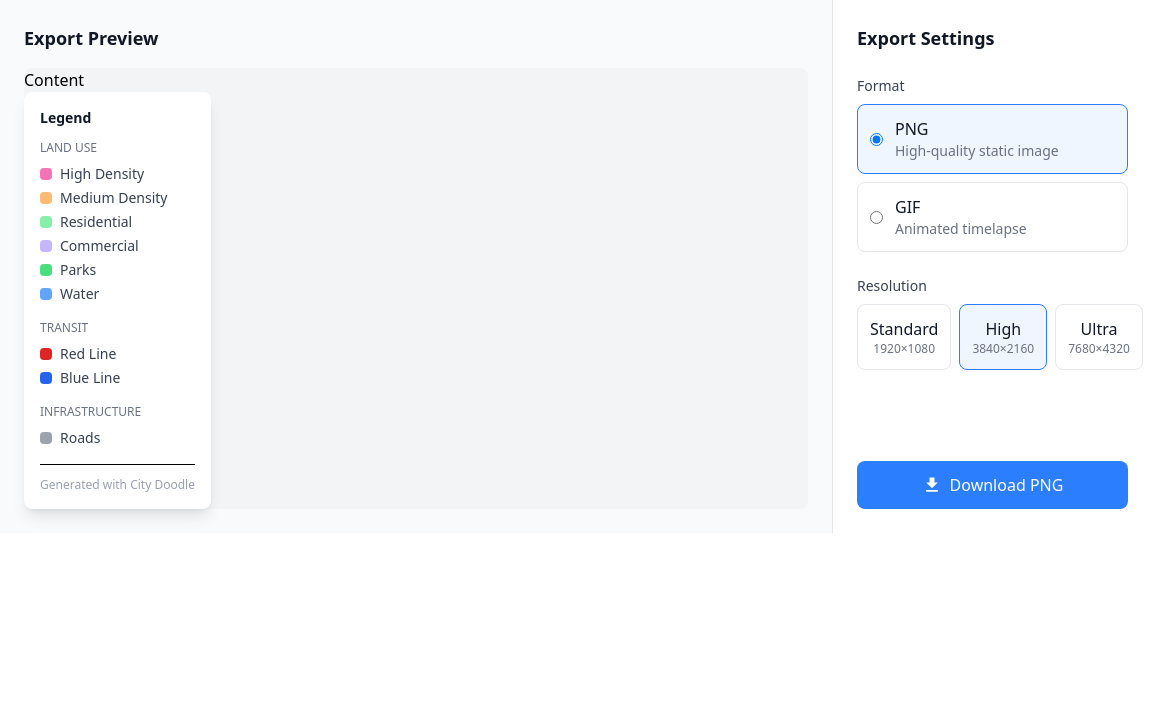
Test: ExportView › changes format selection
Click the text "GIF" at (908, 207), box [895, 196, 920, 218]
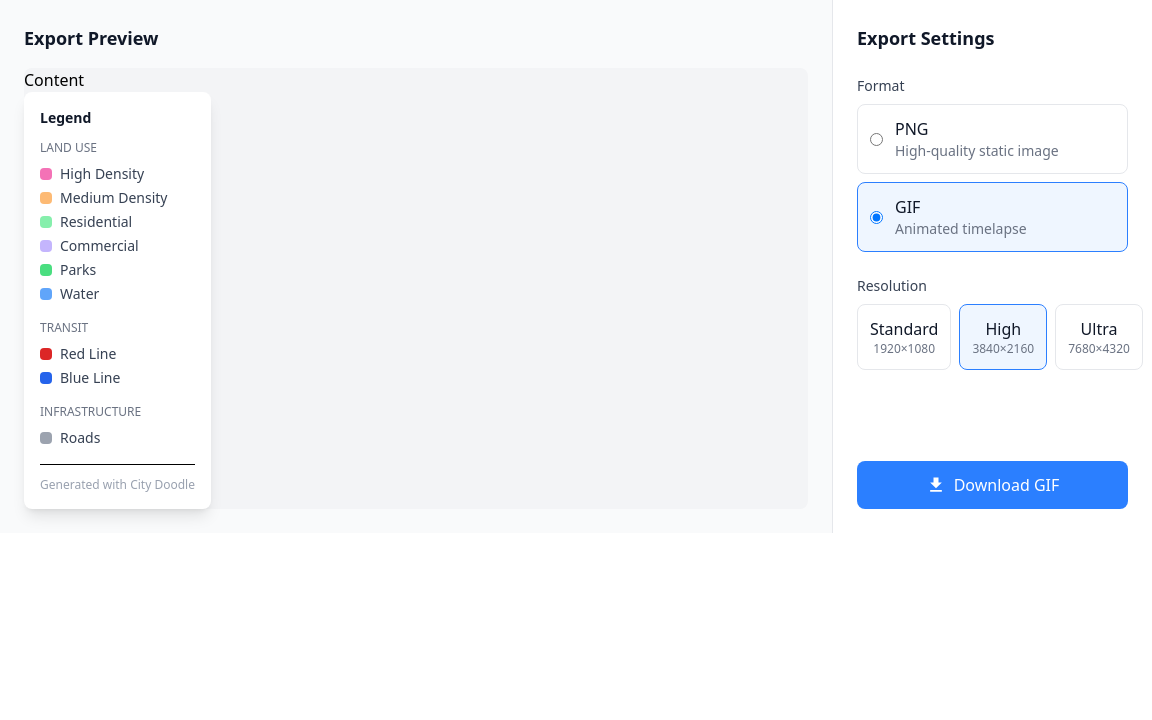
Now the button "Download GIF" is shown, box [857, 461, 1128, 509]
